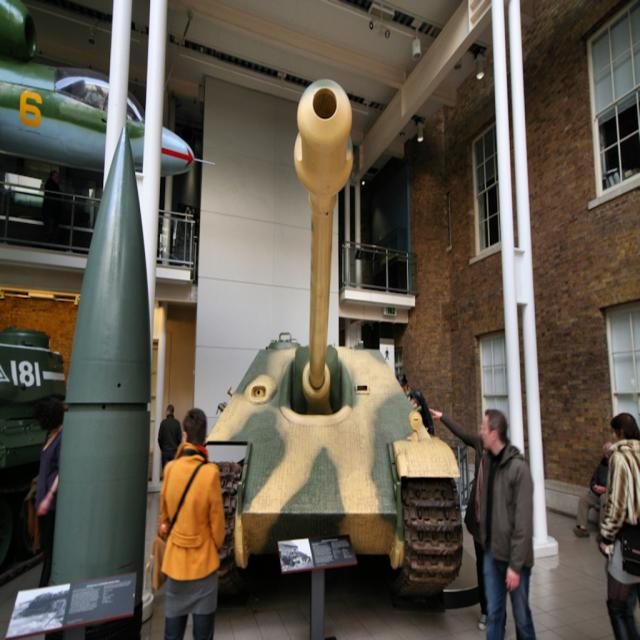tank: (208, 80, 464, 605)
